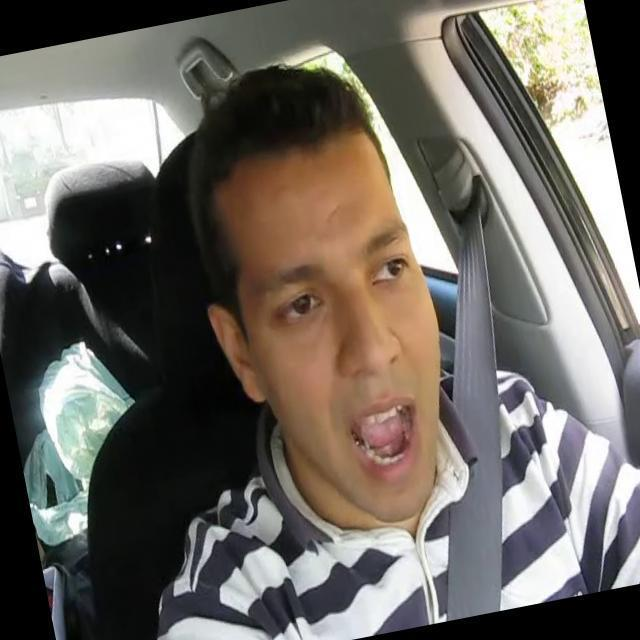open-mouth: (348, 398, 418, 473)
